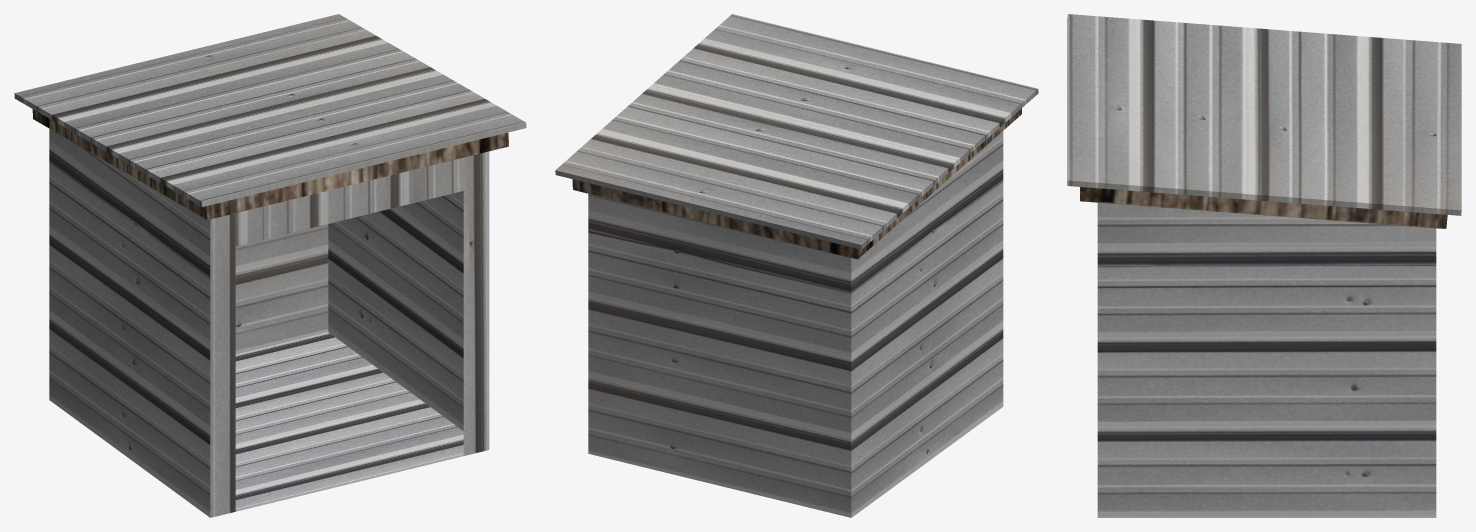
Rendered from Shed.glb.
3 renders of one model, left to right at view 1: azimuth 30°, elevation 25°; view 2: azimuth 150°, elevation 25°; view 3: azimuth 270°, elevation 25°, orthographic. The views are drawn at different scales.
Visible parts, largest first — view 1: Wall_0; view 2: Wall_0; view 3: Wall_0.
Boxes of the visible parts, x1,y1,x2,y2 form: Wall_0: [14, 14, 526, 517]; Wall_0: [555, 14, 1038, 517]; Wall_0: [1067, 14, 1461, 517].
Bounding box in the file's own units: 11.64 × 11.39 × 11.65.
Materials: 2 (2 with a texture image).
